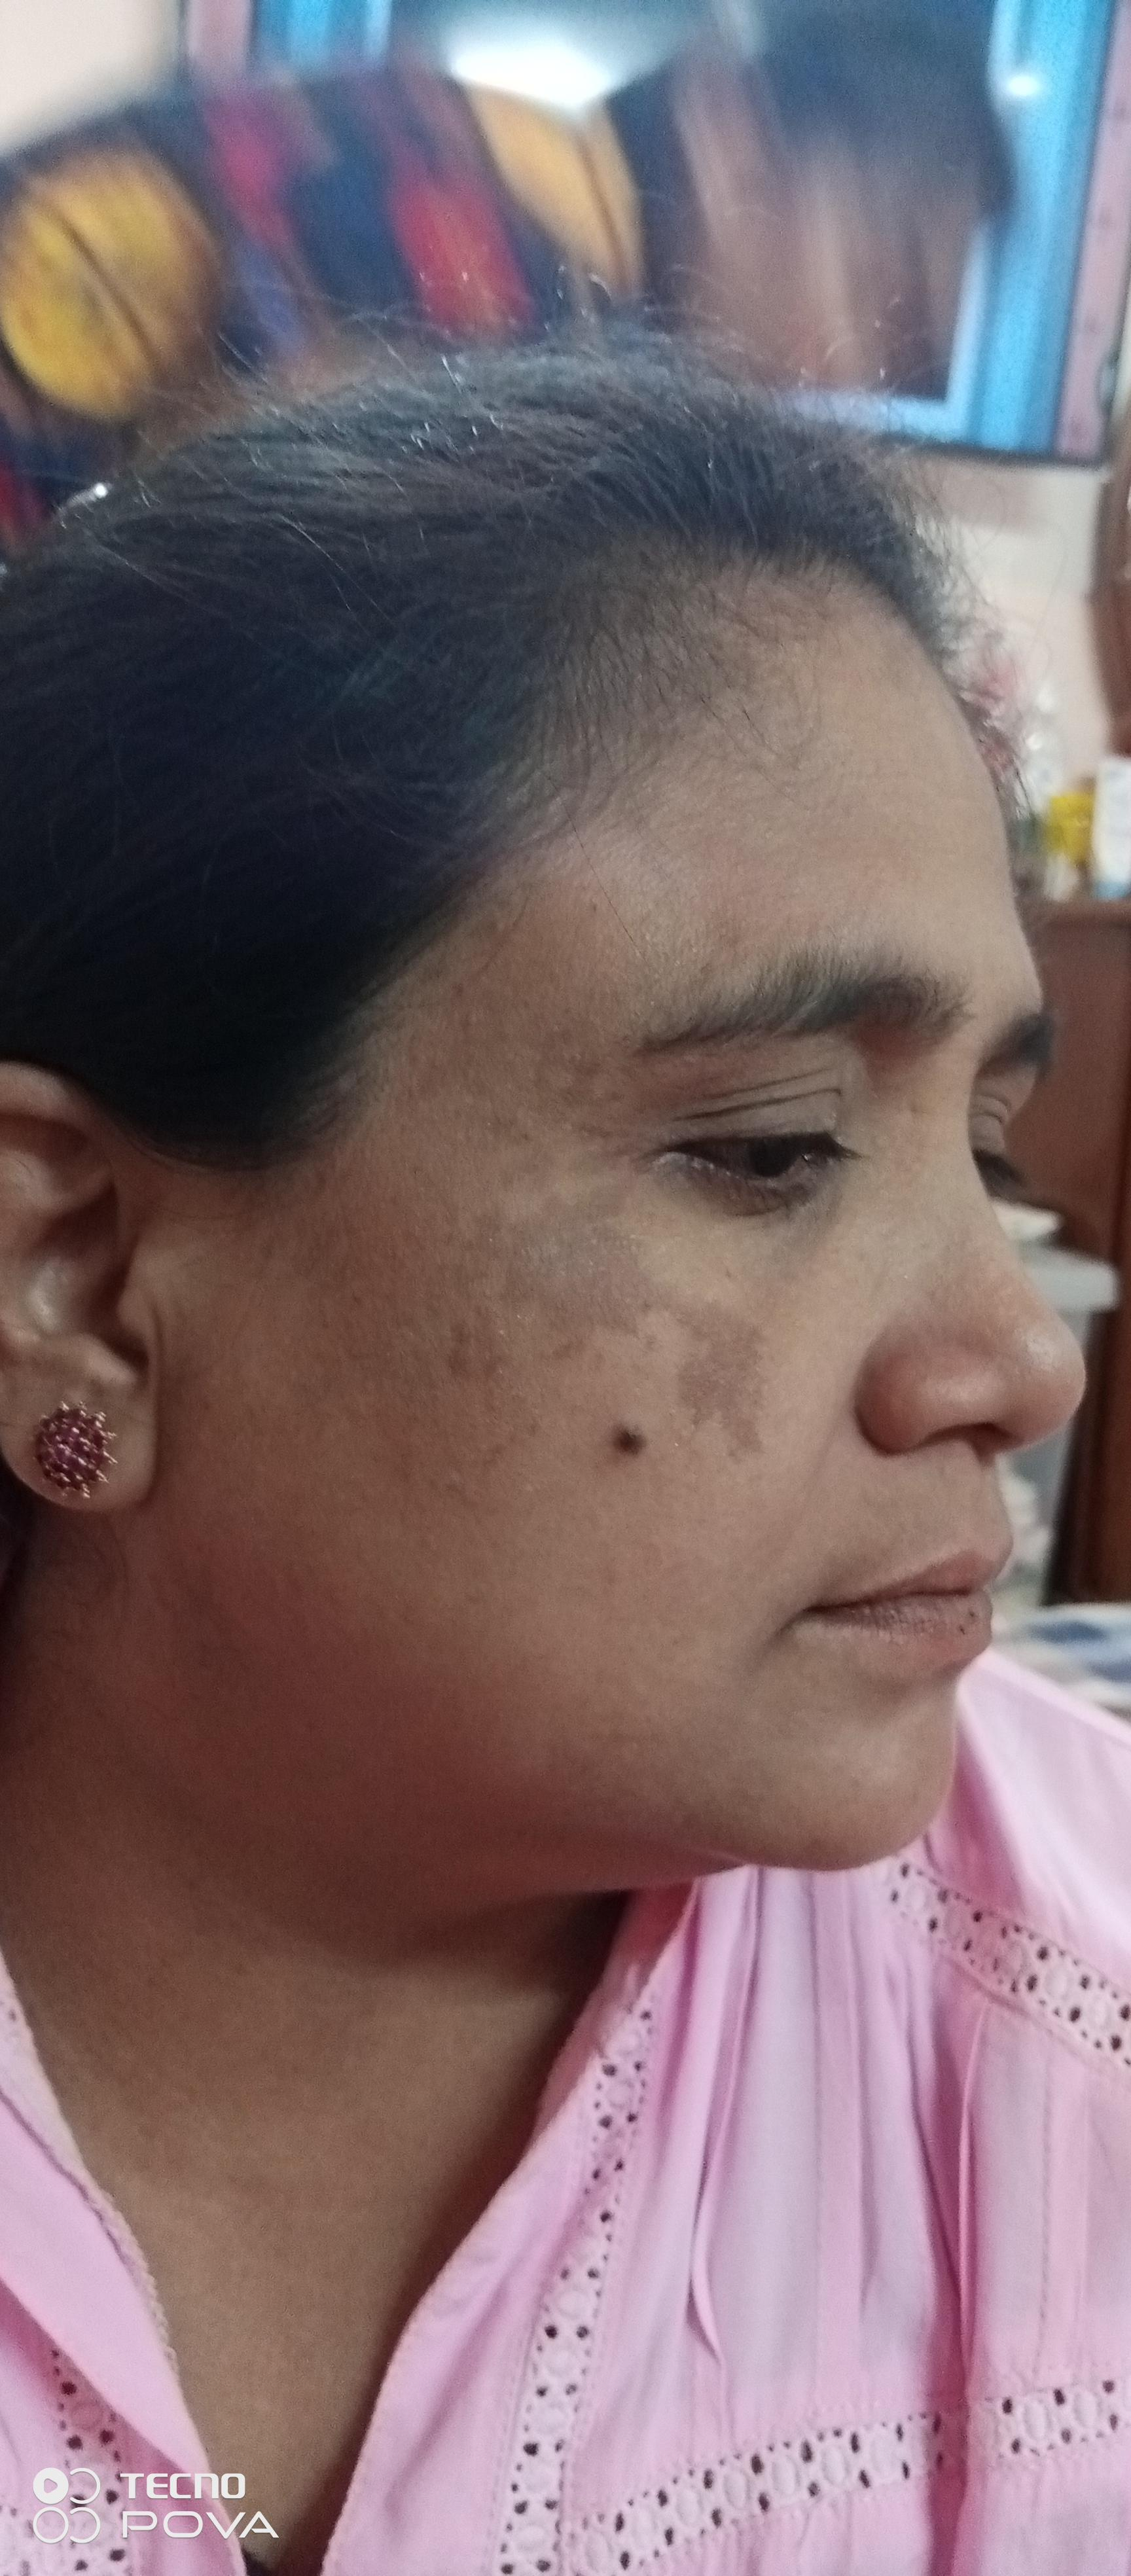Dry-Skin: (488, 1217, 633, 1293)
Wrinkles: (779, 1388, 855, 1567), (825, 767, 995, 793), (745, 1617, 794, 1672)
